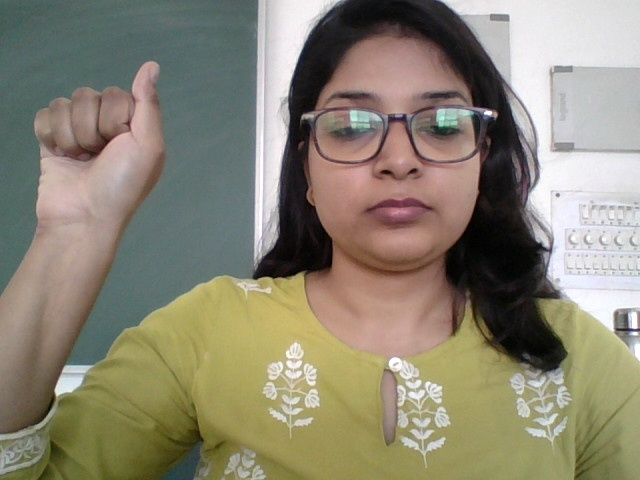A: (24, 53, 189, 262)
